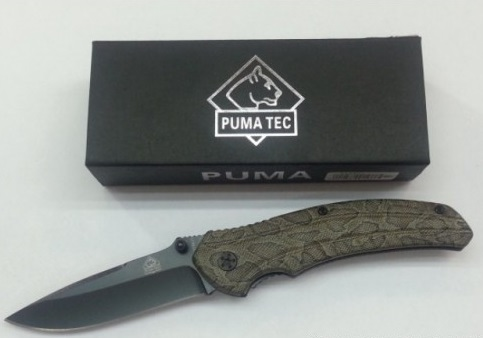knife: (1, 234, 218, 338)
